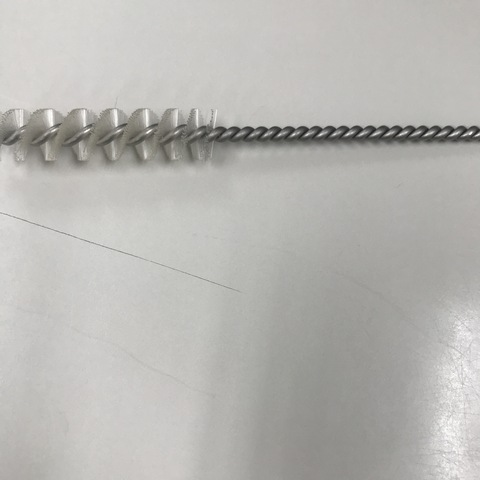Twist Brush-B: (1, 107, 479, 164)
